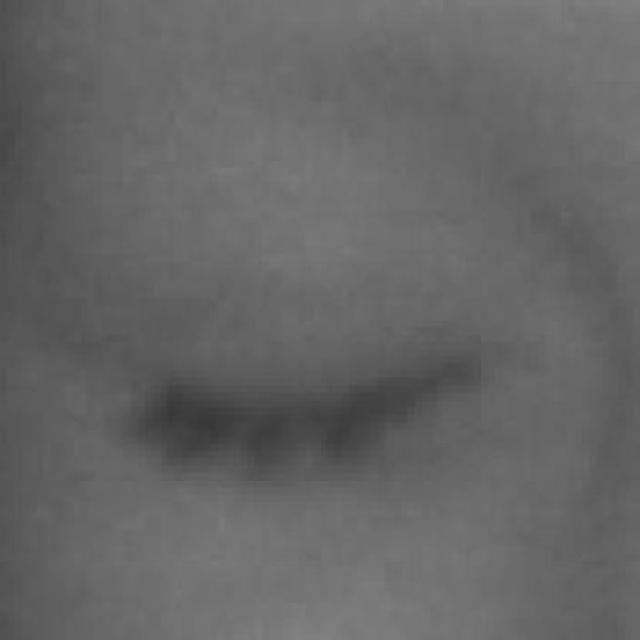drowsy: (139, 244, 473, 591)
